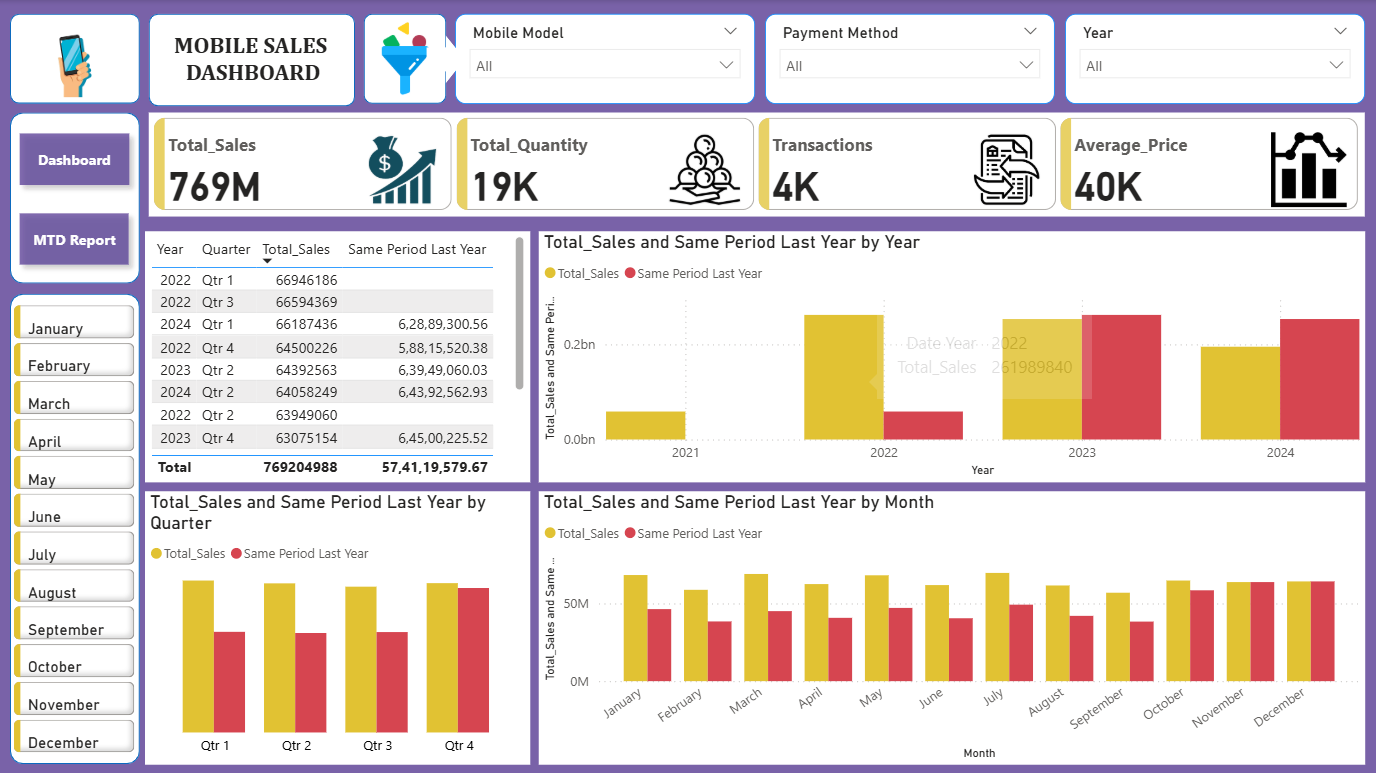

The page's visual inventory and layout, read from the dashboard file:
{"tool":"powerbi","page":{"name":"Same Period Last Year","canvas":[1280,720],"ordinal":2},"visuals":[{"type":"shape","box":[9.3,12.8,120.9,83.7],"z":0},{"type":"image","box":[24.4,12.8,88.4,86],"z":1000},{"type":"shape","box":[9.3,104.7,120.9,159.3],"z":2000},{"type":"shape","box":[9.3,273.3,120.9,437.2],"z":3000},{"type":"advancedSlicerVisual","fields":{"Values":["Custom_Calender.Date.Variation.Date Hierarchy.Month"]},"box":[8.1,279.1,122.1,437.2],"z":4000},{"type":"cardVisual","fields":{"Data":["Sales_Data.Total_Sales","Sales_Data.Total_Quantity","Sales_Data.Transactions","Sales_Data.Average_Price"]},"box":[138.4,104.7,1131.4,96.5],"z":5000},{"type":"slicer","fields":{"Values":["Sales_Data.Mobile Model"]},"box":[423.3,12.8,279.1,83.7],"z":6000},{"type":"slicer","fields":{"Values":["Sales_Data.Payment Method"]},"box":[711.6,12.8,269.8,83.7],"z":7000},{"type":"slicer","fields":{"Values":["Custom_Calender.Date.Variation.Date Hierarchy.Year"]},"box":[990.7,12.8,279.1,83.7],"z":8000},{"type":"shape","box":[338.4,12.8,76.7,83.7],"z":9000},{"type":"image","box":[320.9,12.8,111.6,83.7],"z":10000},{"type":"shape","box":[396.5,32.6,36,45.3],"z":11000},{"type":"shape","box":[138.4,12.8,191.9,86],"z":12000},{"type":"textbox","box":[150,24.4,170.9,72.1],"z":13000},{"type":"pageNavigator","box":[9.3,115.1,120.9,140.7],"z":14000},{"type":"tableEx","fields":{"Values":["Custom_Calender.Date.Variation.Date Hierarchy.Year","Custom_Calender.Date.Variation.Date Hierarchy.Quarter","Sales_Data.Total_Sales","Sales_Data.Same Period Last Year"]},"box":[134.9,215.1,358.1,233.7],"z":15000},{"type":"clusteredColumnChart","fields":{"Category":["Custom_Calender.Date.Variation.Date Hierarchy.Year","Custom_Calender.Date.Variation.Date Hierarchy.Quarter"],"Y":["Sales_Data.Total_Sales","Sales_Data.Same Period Last Year"]},"box":[501.2,215.1,768.6,233.7],"z":16000},{"type":"clusteredColumnChart","fields":{"Category":["Custom_Calender.Date.Variation.Date Hierarchy.Year","Custom_Calender.Date.Variation.Date Hierarchy.Quarter"],"Y":["Sales_Data.Total_Sales","Sales_Data.Same Period Last Year"]},"box":[134.9,457,358.1,254.7],"z":17000},{"type":"clusteredColumnChart","fields":{"Category":["Custom_Calender.Date.Variation.Date Hierarchy.Year","Custom_Calender.Date.Variation.Date Hierarchy.Quarter","Custom_Calender.Date.Variation.Date Hierarchy.Month","Custom_Calender.Date.Variation.Date Hierarchy.Day"],"Y":["Sales_Data.Total_Sales","Sales_Data.Same Period Last Year"]},"box":[501.2,457,768.6,254.7],"z":18000}]}

Visuals, with their boxes in screenshot pixels (x1, y1, x2, y2), scaled from the page's 1280x720 canvas onto the 1376x773 screenshot:
shape: [x1=10, y1=14, x2=140, y2=104]
image: [x1=26, y1=14, x2=121, y2=106]
shape: [x1=10, y1=112, x2=140, y2=283]
shape: [x1=10, y1=293, x2=140, y2=763]
advancedSlicerVisual - Custom_Calender.Date.Variation.Date Hierarchy.Month: [x1=9, y1=300, x2=140, y2=769]
cardVisual - Sales_Data.Total_Sales x Sales_Data.Total_Quantity: [x1=149, y1=112, x2=1365, y2=216]
slicer - Sales_Data.Mobile Model: [x1=455, y1=14, x2=755, y2=104]
slicer - Sales_Data.Payment Method: [x1=765, y1=14, x2=1055, y2=104]
slicer - Custom_Calender.Date.Variation.Date Hierarchy.Year: [x1=1065, y1=14, x2=1365, y2=104]
shape: [x1=364, y1=14, x2=446, y2=104]
image: [x1=345, y1=14, x2=465, y2=104]
shape: [x1=426, y1=35, x2=465, y2=84]
shape: [x1=149, y1=14, x2=355, y2=106]
textbox: [x1=161, y1=26, x2=345, y2=104]
pageNavigator: [x1=10, y1=124, x2=140, y2=275]
tableEx - Custom_Calender.Date.Variation.Date Hierarchy.Year x Custom_Calender.Date.Variation.Date Hierarchy.Quarter: [x1=145, y1=231, x2=530, y2=482]
clusteredColumnChart - Custom_Calender.Date.Variation.Date Hierarchy.Year x Custom_Calender.Date.Variation.Date Hierarchy.Quarter: [x1=539, y1=231, x2=1365, y2=482]
clusteredColumnChart - Custom_Calender.Date.Variation.Date Hierarchy.Year x Custom_Calender.Date.Variation.Date Hierarchy.Quarter: [x1=145, y1=491, x2=530, y2=764]
clusteredColumnChart - Custom_Calender.Date.Variation.Date Hierarchy.Year x Custom_Calender.Date.Variation.Date Hierarchy.Quarter: [x1=539, y1=491, x2=1365, y2=764]
